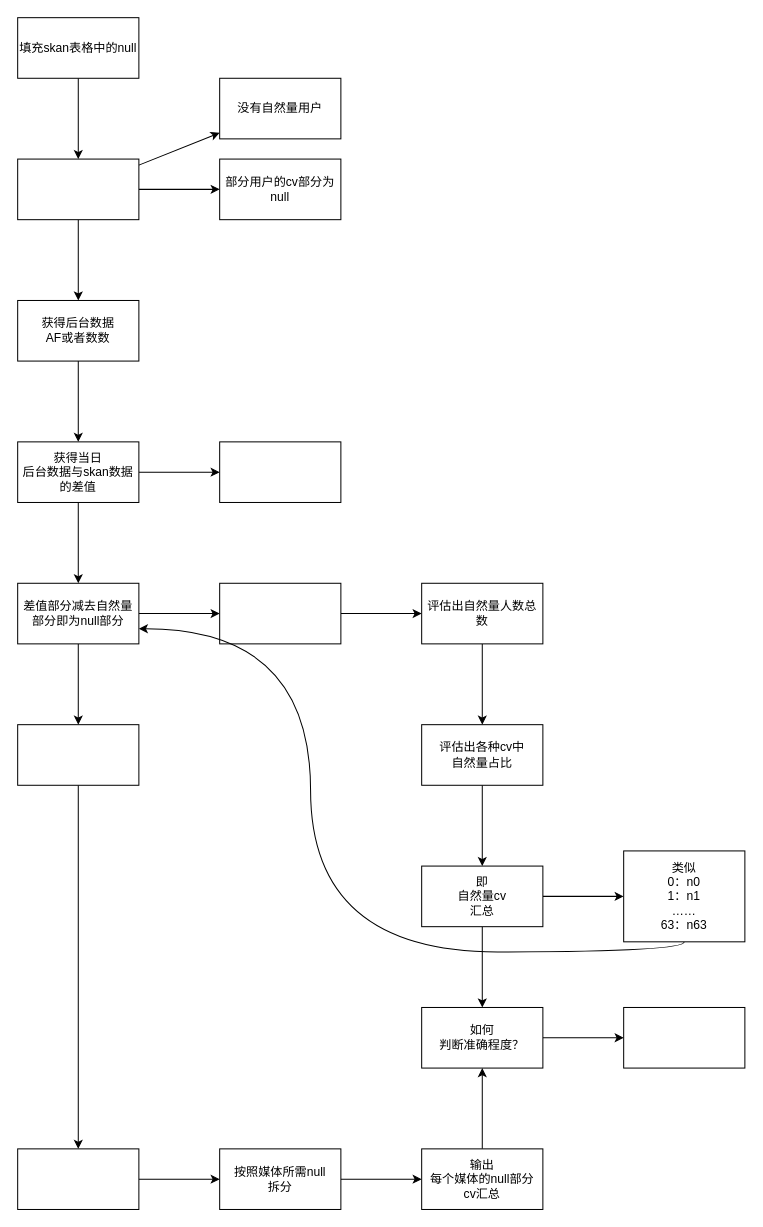
The diagram is 763 pixels wide and 1227 high, and some of its shapes have lost their labels. Here are the shapes that lost their labels. From the top down, the box of each, then its label:
(17, 158, 139, 220): 获得所有skan数据
(219, 441, 341, 502): 差值中包括自然量 和 null部分
(219, 582, 341, 644): 自然量评估
(17, 724, 139, 785): 剩余部分为null部分
(623, 1006, 745, 1068): 最终用估计值+skan值 与 后台数值作比对
(17, 1148, 139, 1209): null部分填充
